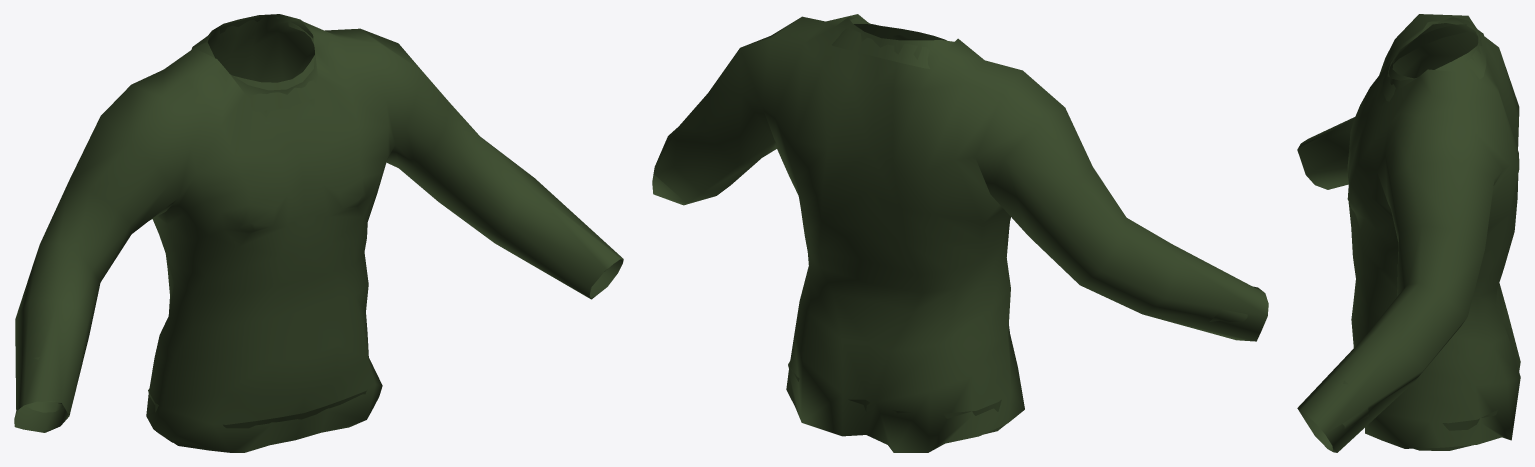
File: bomber.glb
3 views of the same model, side by side, from view 1: azimuth 30°, elevation 25°; view 2: azimuth 150°, elevation 25°; view 3: azimuth 270°, elevation 25° (orthographic). The views are drawn at different scales.
Parts seen in each view (by area): view 1: bomber; view 2: bomber; view 3: bomber.
Part boxes in pixels (box(x1,y1,x2,y2)): bomber: box(14, 14, 623, 452); bomber: box(652, 14, 1268, 452); bomber: box(1297, 14, 1520, 452).
Size of the model in its own units: 1.09 by 0.6722 by 0.3578.
